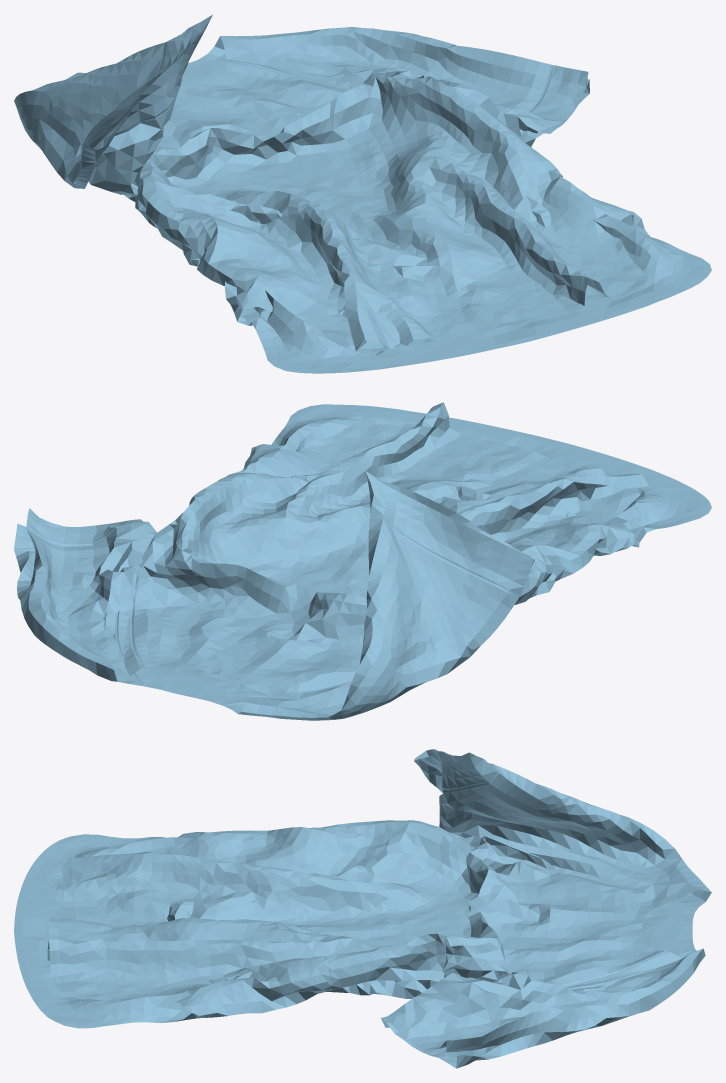
File: frame_14.glb
3 views of the same model, one above another, from view 1: azimuth 30°, elevation 25°; view 2: azimuth 150°, elevation 25°; view 3: azimuth 270°, elevation 25° (orthographic). The views are drawn at different scales.
Parts seen in each view (by area): view 1: frame_14.obj; view 2: frame_14.obj; view 3: frame_14.obj.
Boxes of the visible parts, x1,y1,x2,y2 form: frame_14.obj: [14, 14, 711, 373]; frame_14.obj: [14, 402, 711, 720]; frame_14.obj: [14, 749, 711, 1068].
Bounding box in the file's own units: 1.46 × 0.4524 × 1.83.
